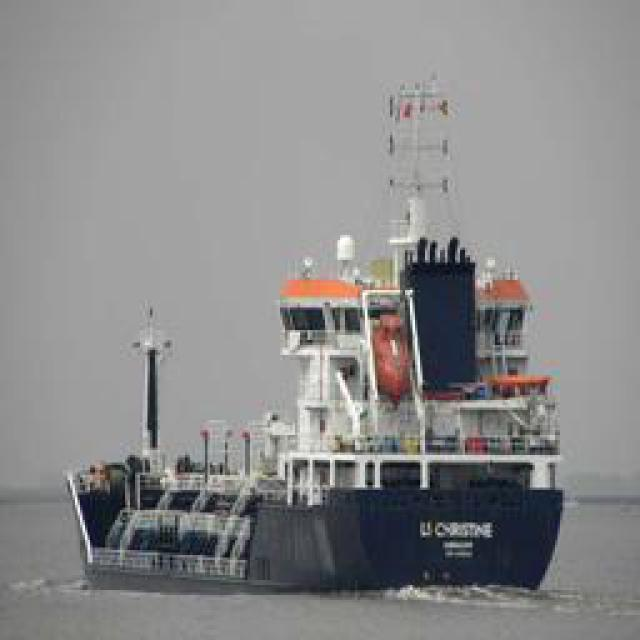Ship: (260, 249, 565, 594)
